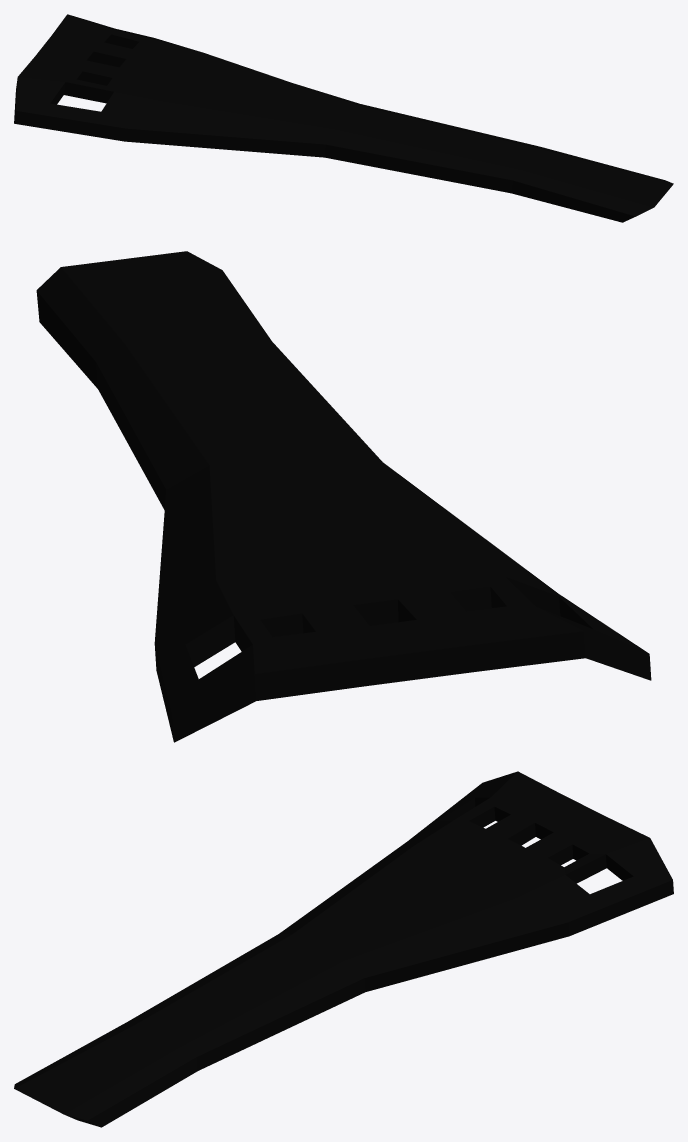
3 views of the same model, one above another, from view 1: azimuth 30°, elevation 25°; view 2: azimuth 150°, elevation 25°; view 3: azimuth 270°, elevation 25° (orthographic). The views are drawn at different scales.
Parts seen in each view (by area): view 1: Sortende_1.002; view 2: Sortende_1.002; view 3: Sortende_1.002.
Part boxes in pixels (left/top/right/bottom): Sortende_1.002: left=14, top=14, right=673, bottom=222; Sortende_1.002: left=36, top=251, right=651, bottom=742; Sortende_1.002: left=14, top=771, right=673, bottom=1127.
Size of the model in its own units: 135 by 23.77 by 140.
1 material, 1 textured.
